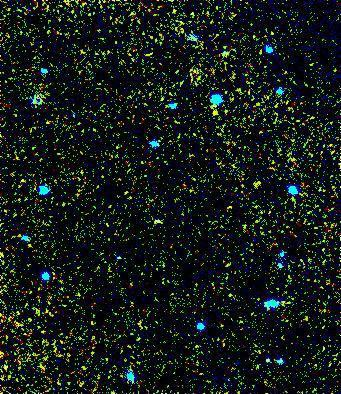star: (201, 99, 231, 129)
